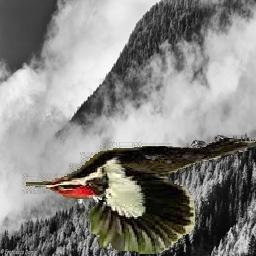Woodpecker: (22, 136, 256, 255)
